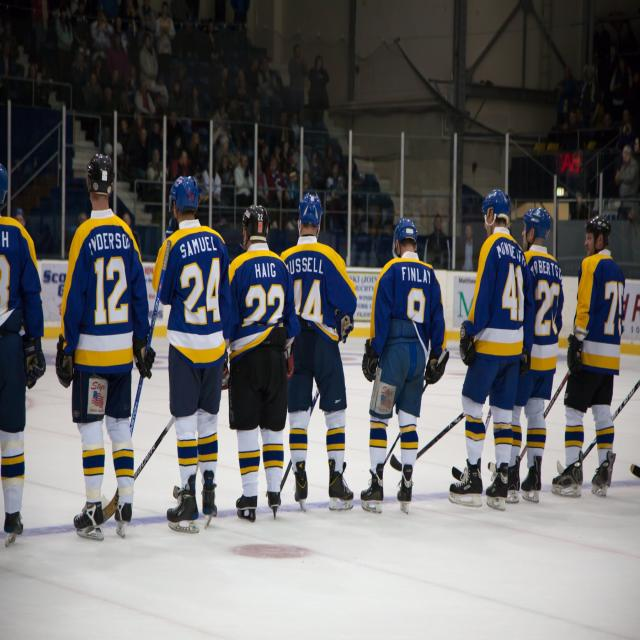body: (0, 1, 393, 270), (53, 149, 158, 543), (148, 170, 235, 538), (444, 185, 536, 514), (356, 212, 449, 517), (279, 190, 359, 513), (225, 203, 302, 525), (550, 214, 627, 502), (0, 162, 47, 547), (506, 206, 564, 504), (534, 0, 608, 220), (609, 1, 640, 140), (421, 212, 448, 270), (614, 143, 640, 200), (456, 222, 478, 272)
